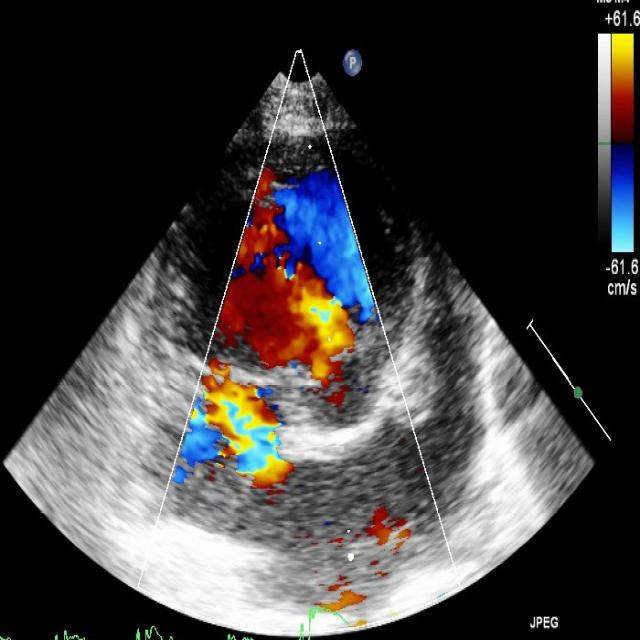VSDType2: (242, 189, 354, 394)
